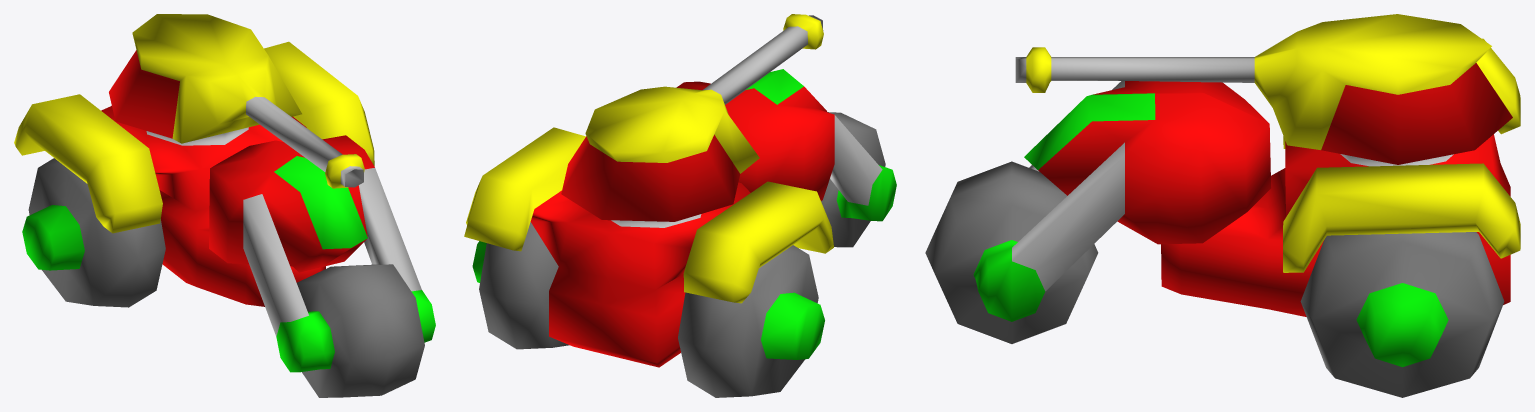
Rendered from gh_tauner.obj.
3 renders of one model, left to right at view 1: azimuth 30°, elevation 25°; view 2: azimuth 150°, elevation 25°; view 3: azimuth 270°, elevation 25°, orthographic. The views are drawn at different scales.
Visible parts, largest first — view 1: gh_tauner; view 2: gh_tauner; view 3: gh_tauner.
Boxes of the visible parts, left/top/right/bottom form: gh_tauner: left=14, top=14, right=435, bottom=397; gh_tauner: left=464, top=14, right=896, bottom=397; gh_tauner: left=925, top=14, right=1520, bottom=397.
Bounding box in the file's own units: 0.4232 × 0.3086 × 0.5806.
Materials: 1 (1 with a texture image).
